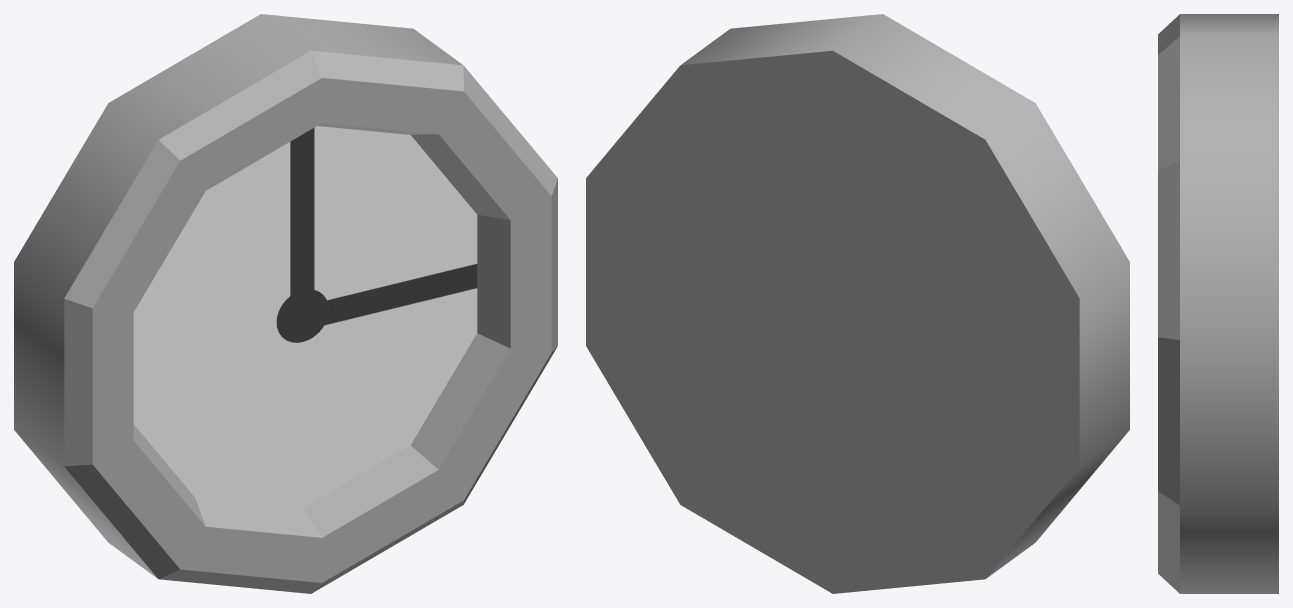
The model's file is Clock.fbx.
3 renders of one model, left to right at view 1: azimuth 30°, elevation 25°; view 2: azimuth 150°, elevation 25°; view 3: azimuth 270°, elevation 25°, orthographic.
Parts seen in each view (by area): view 1: pCylinder5; view 2: pCylinder5; view 3: pCylinder5.
Part boxes in pixels (x1=…): pCylinder5: x1=14, y1=14, x2=557, y2=593; pCylinder5: x1=586, y1=14, x2=1129, y2=593; pCylinder5: x1=1158, y1=14, x2=1278, y2=593.
Size of the model in its own units: 3.25 by 3.42 by 0.6984.
1 material, 1 textured.
